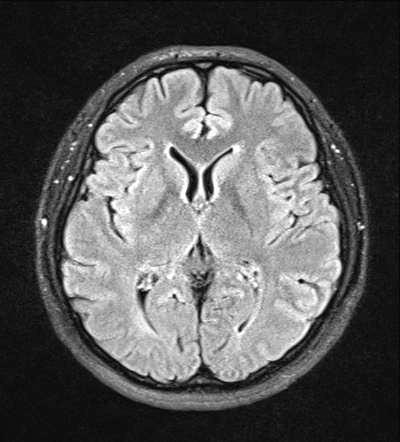Normal_Brain: (6, 18, 400, 442)
